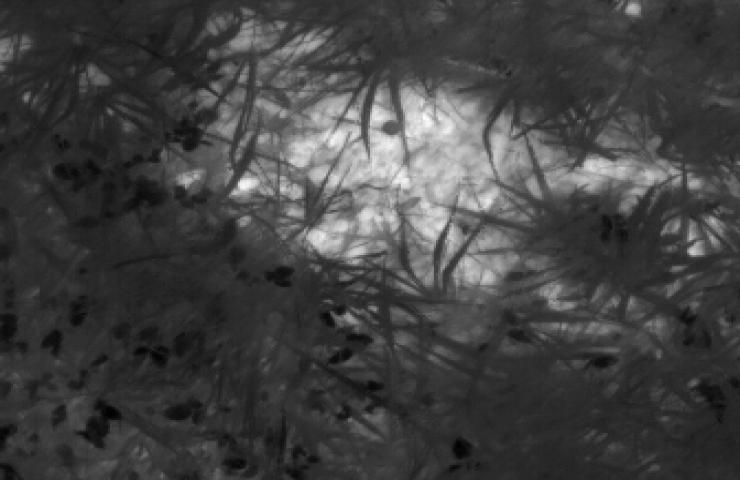landmines: (195, 8, 564, 294)
